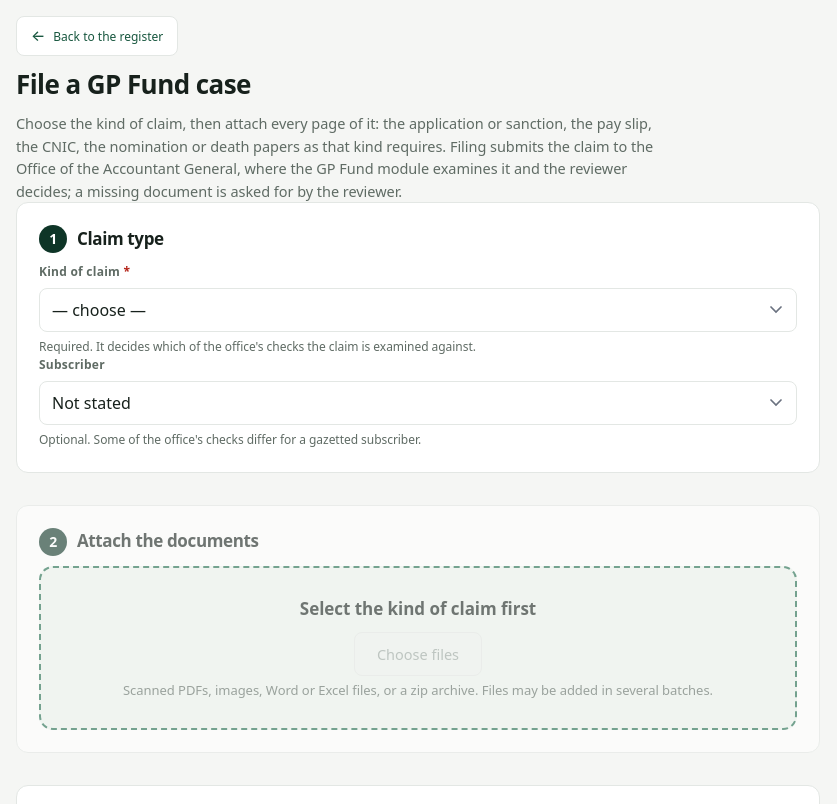
Test: the kind of claim is chosen before anything is attached › filing is refused until the kind is chosen
The image size is (837, 804).
Note: Reaching for the papers first is the way an officer meets this, and it says which step.
Step 1. Click the text "Select the kind of claim first" → coordinates (418, 608), box 300,596 -> 536,620
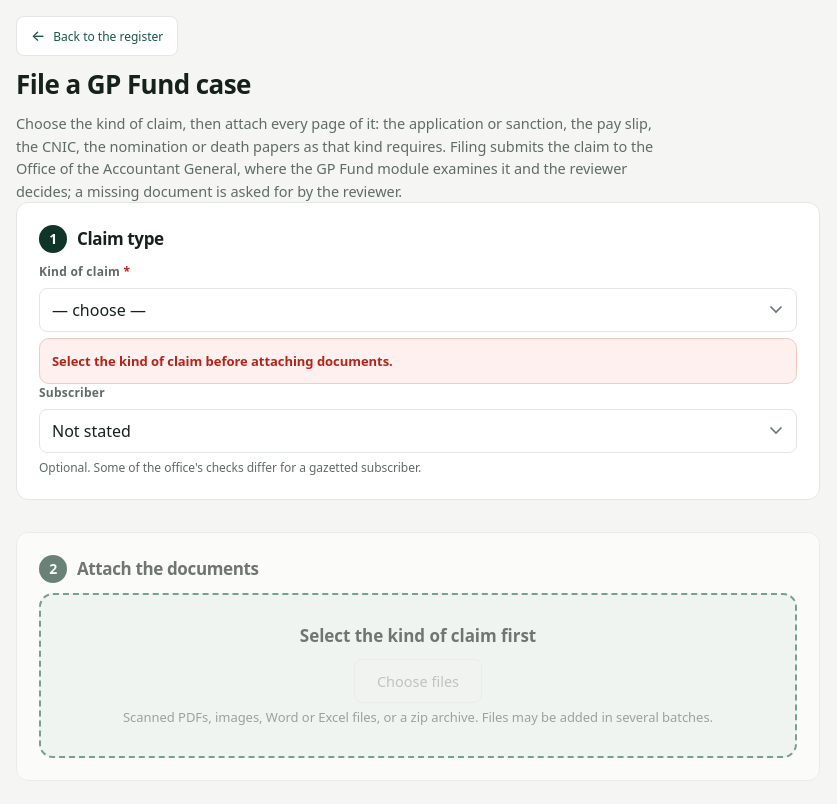
expect the message reads "Select the kind of claim before attaching documents.": met, box 52,352 -> 393,370
